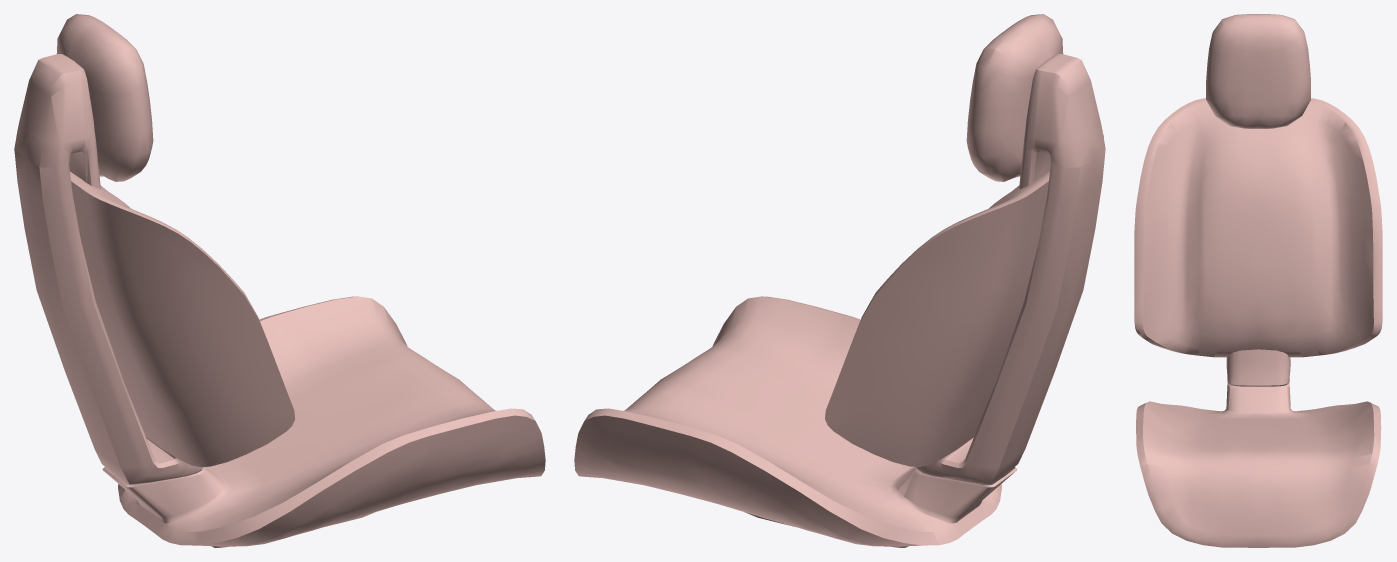
The model's file is carSeat.fbx.
The picture shows the model from 3 angles, left to right: view 1: azimuth 30°, elevation 25°; view 2: azimuth 150°, elevation 25°; view 3: azimuth 270°, elevation 25°; orthographic projection. The views are drawn at different scales.
Visible parts, largest first — view 1: seat; view 2: seat; view 3: seat.
Boxes of the visible parts, x1,y1,x2,y2 form: seat: (14,14,545,547); seat: (574,14,1105,547); seat: (1134,14,1382,547).
Bounding box in the file's own units: 90.36 × 99.94 × 55.92.
